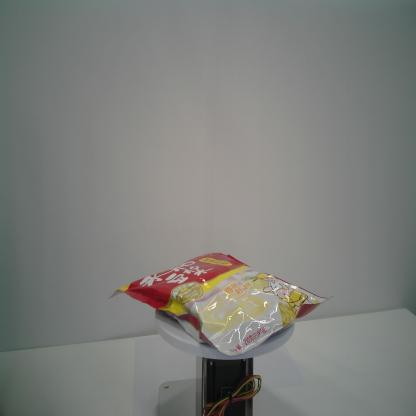Instant Drink: (108, 251, 333, 357)
